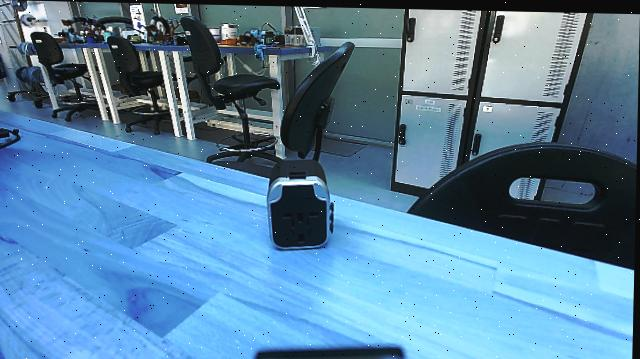adapter: (264, 155, 337, 251)
